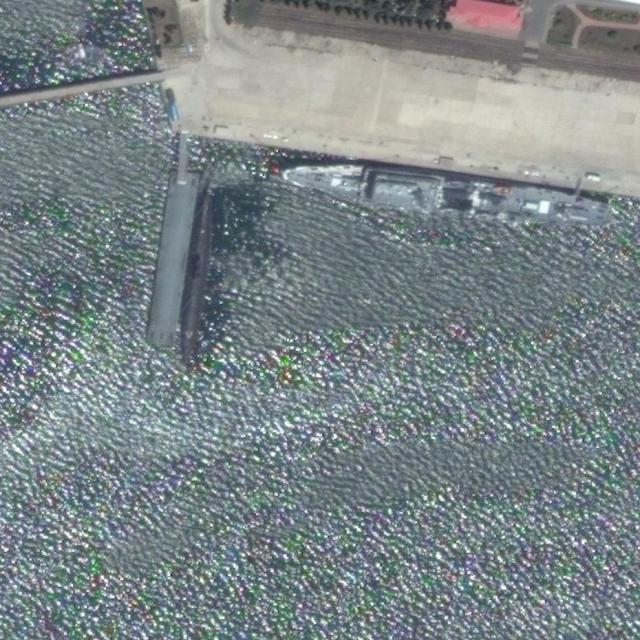Other Warship: (280, 157, 617, 235)
Submarine: (173, 193, 221, 373)
